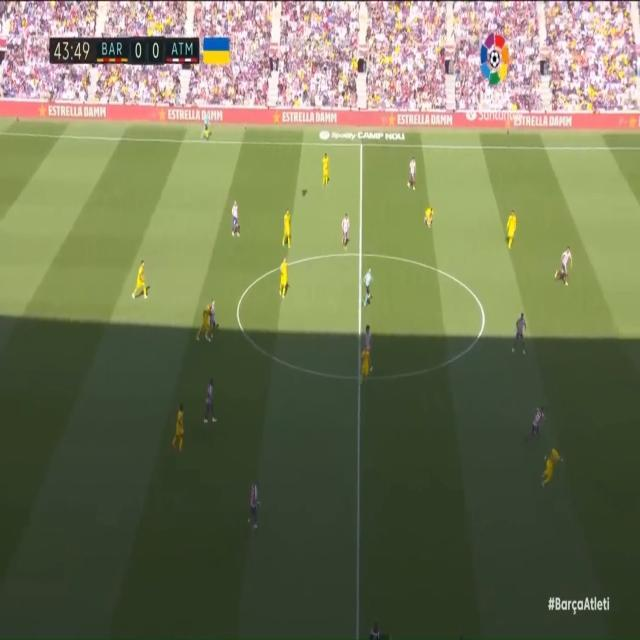player: (243, 477, 265, 541), (524, 399, 544, 460), (543, 441, 563, 495), (555, 238, 575, 291), (193, 301, 213, 351), (510, 304, 527, 359), (360, 315, 377, 368), (170, 406, 186, 460), (358, 345, 373, 398), (134, 257, 149, 308), (206, 292, 223, 335), (203, 378, 218, 425), (278, 254, 291, 302), (281, 206, 294, 252), (505, 205, 518, 251), (230, 197, 243, 240), (406, 155, 417, 196), (341, 213, 353, 250), (424, 201, 436, 236), (320, 150, 331, 188)
referee: (363, 265, 379, 311), (201, 106, 211, 143)
